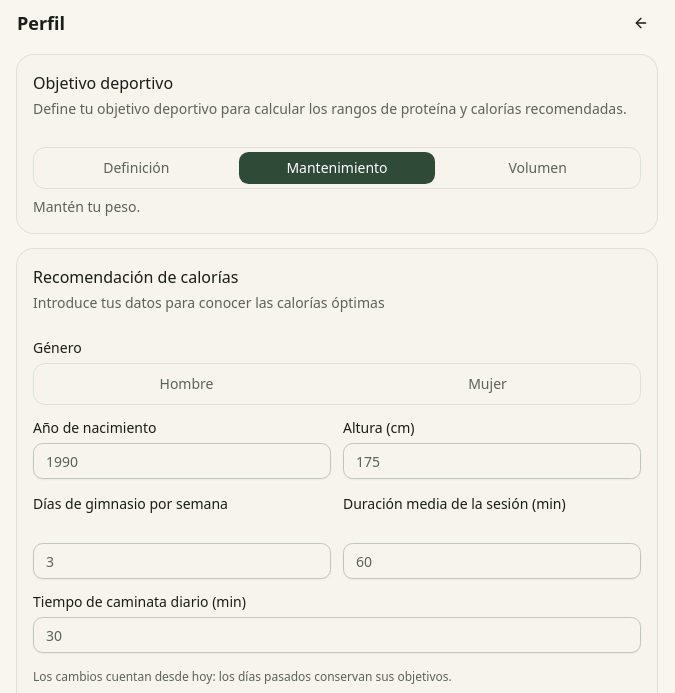
Scenario: pantalla Perfil › no guarda el perfil y muestra el error si un campo no valida
The width and height of the screenshot is (675, 693).
Type "1800" into the number field labelled "Año de nacimiento" at (182, 461), box x1=33 y1=443 x2=331 y2=479
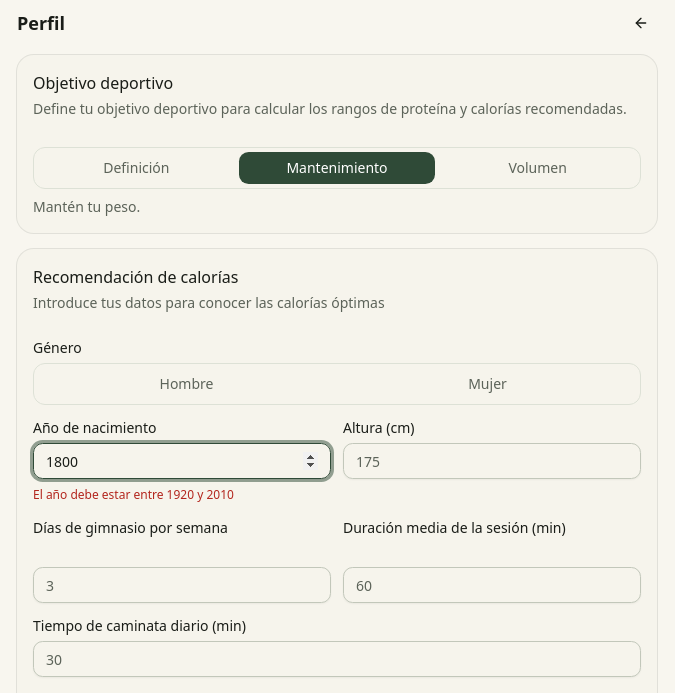
Now the text "El año debe estar entre 1920 y 2010" is shown, box x1=33 y1=486 x2=234 y2=503
